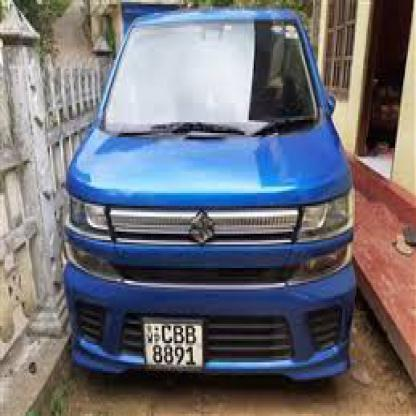car: (61, 6, 358, 382)
